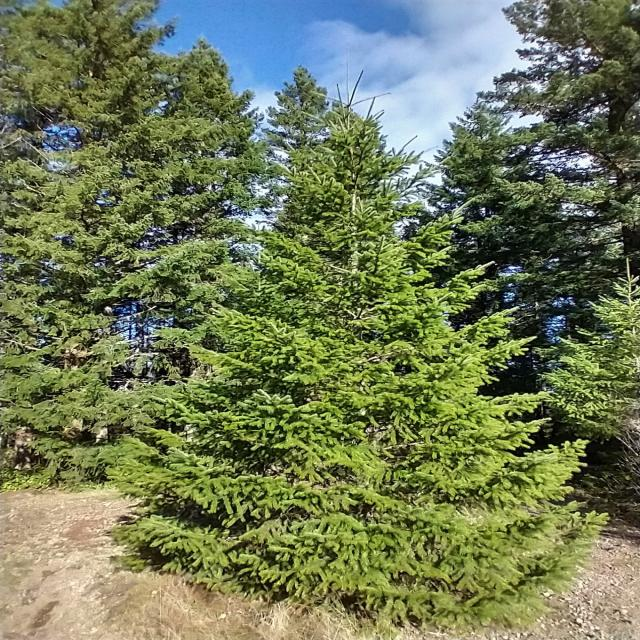Pseudotsuga menziesii: (100, 63, 613, 619)
